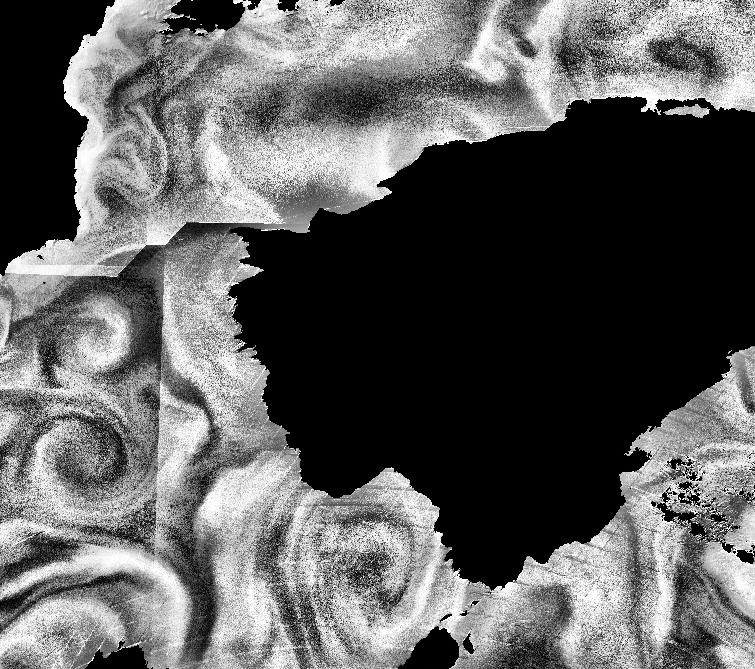AE: (281, 493, 430, 634), (33, 409, 144, 518), (55, 298, 126, 369)
